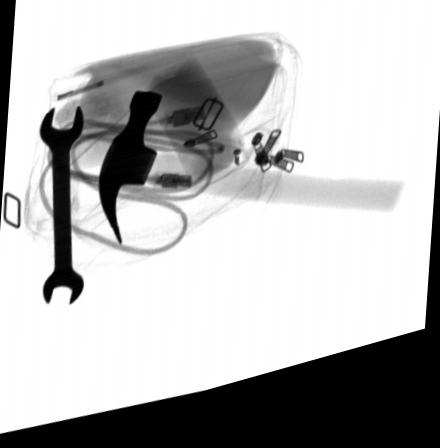Hammer: (96, 96, 405, 253)
Wrench: (39, 107, 83, 308)
